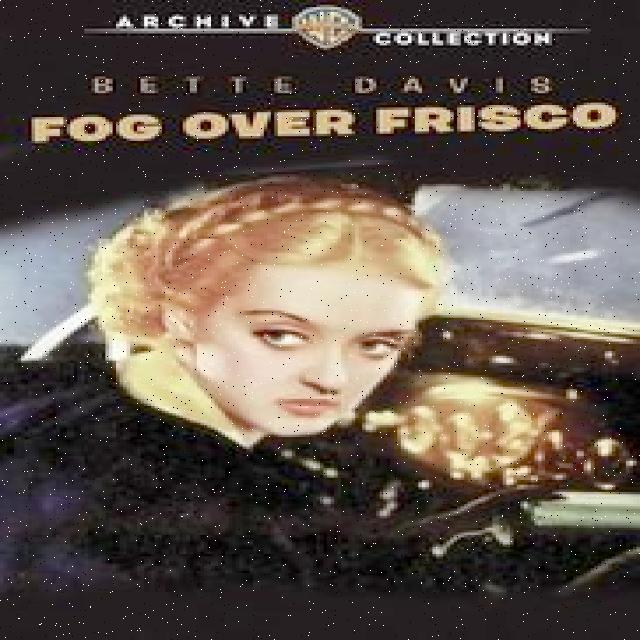movie-judul: (24, 102, 621, 145)
picture: (0, 177, 640, 635)
